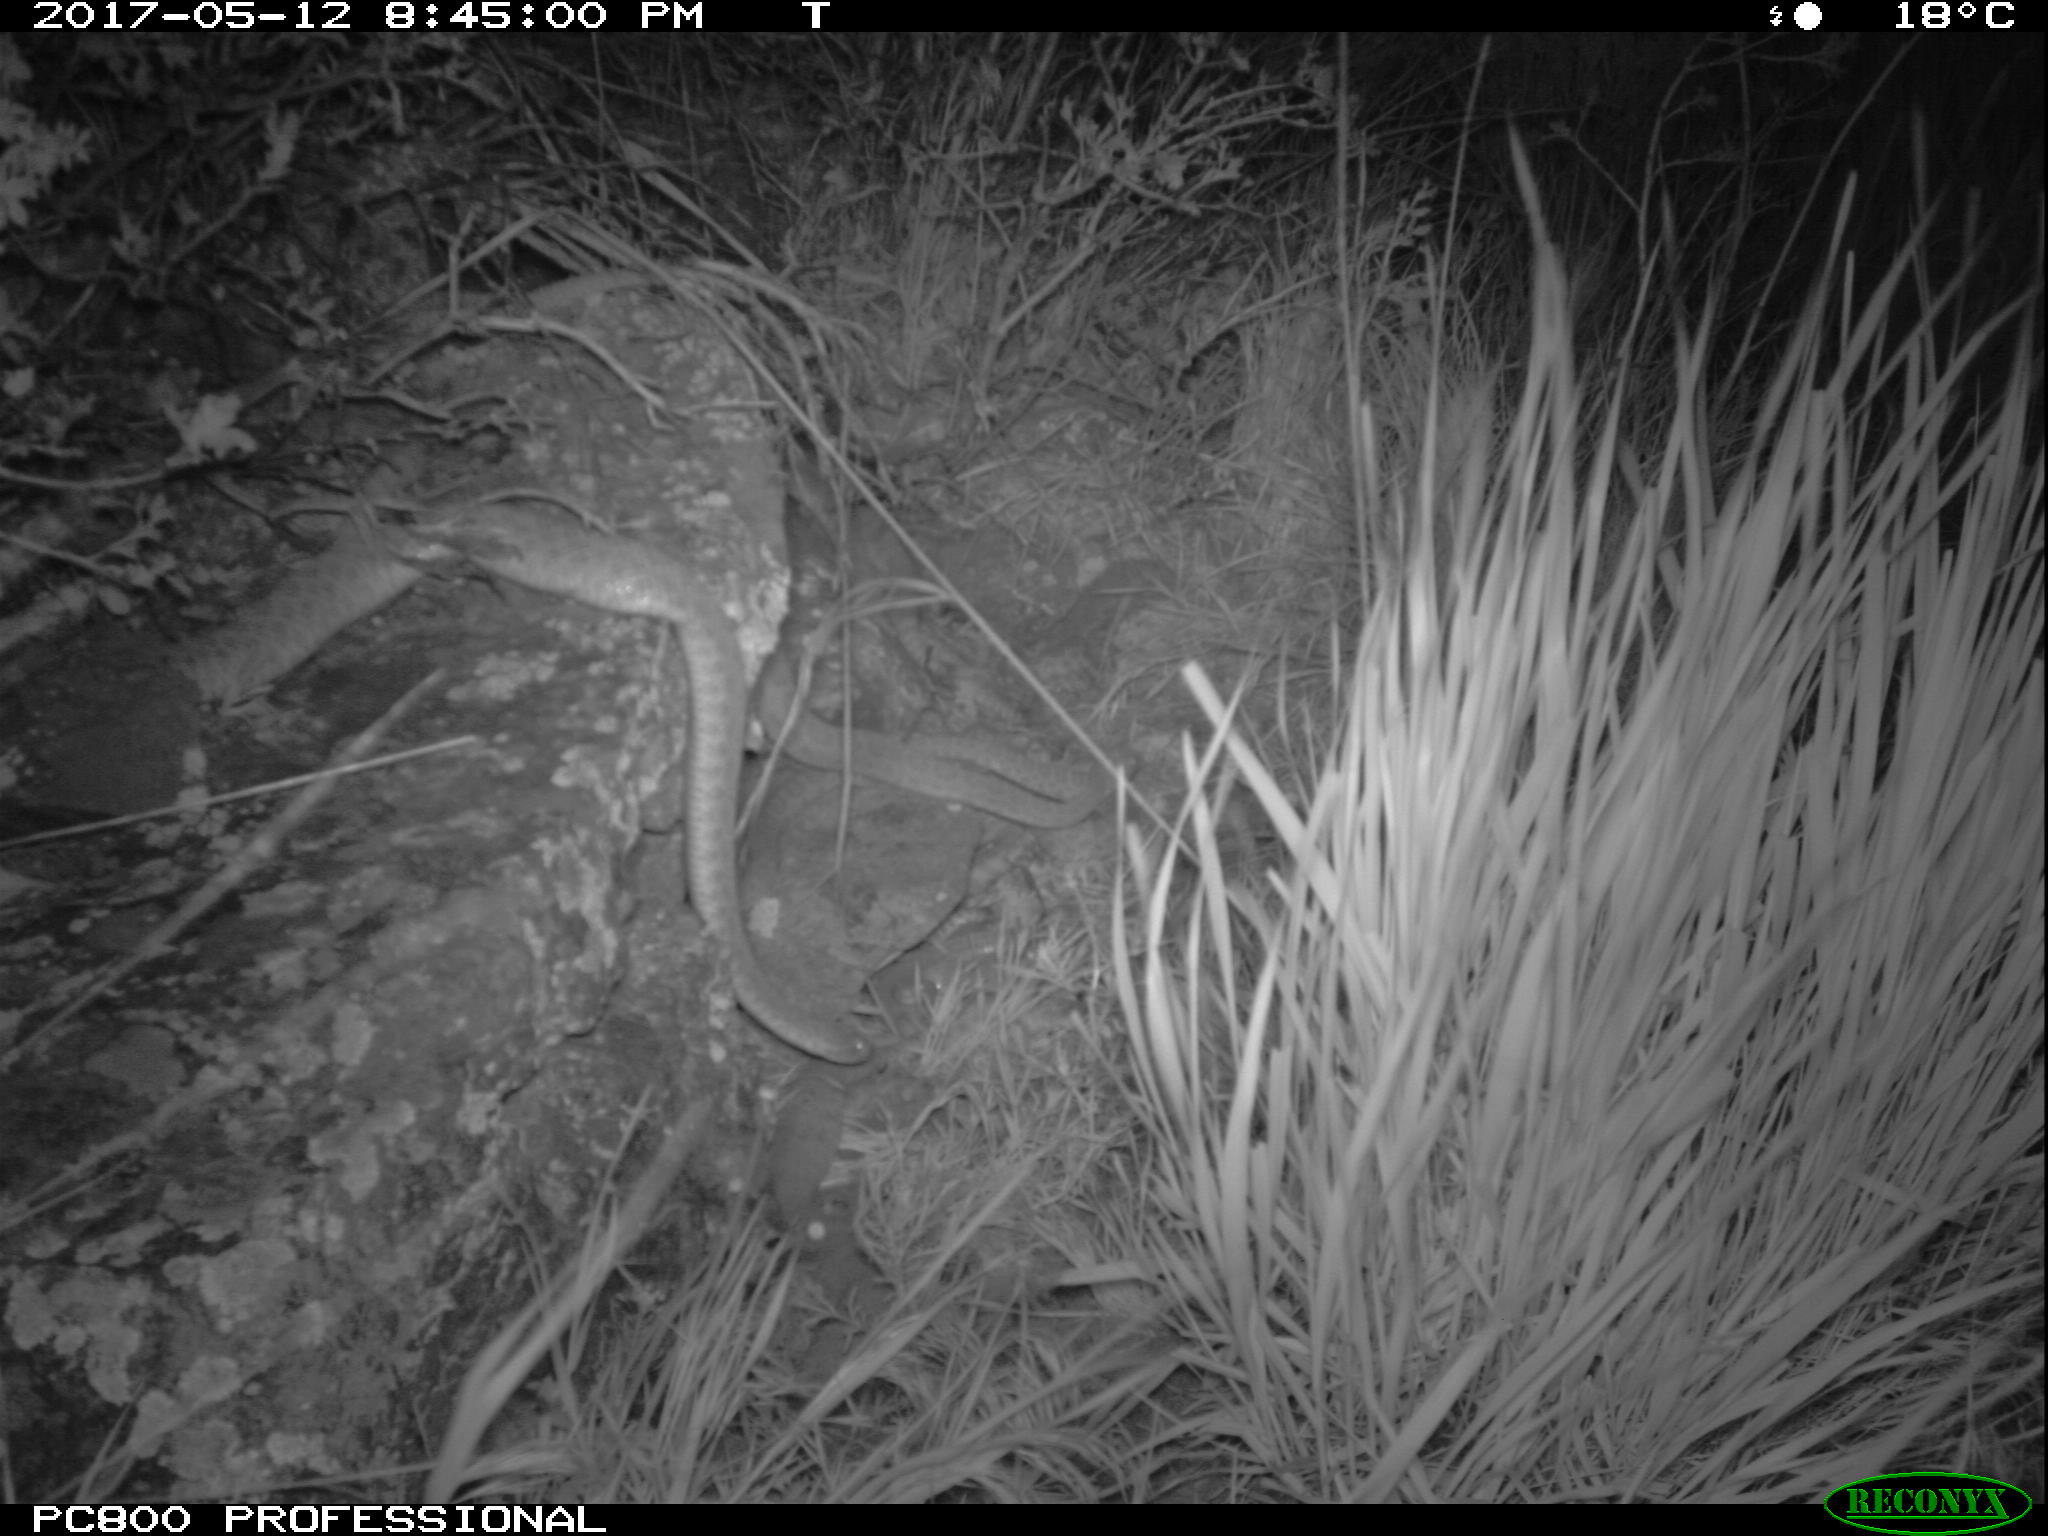snake: (189, 513, 743, 676), (777, 720, 1101, 829), (674, 592, 758, 984), (735, 979, 892, 1084)
